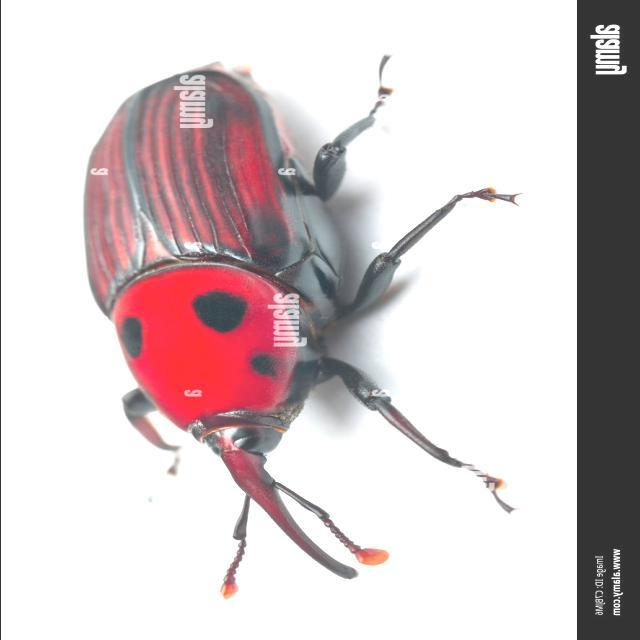Red-palm-weevil: (80, 62, 398, 603)
